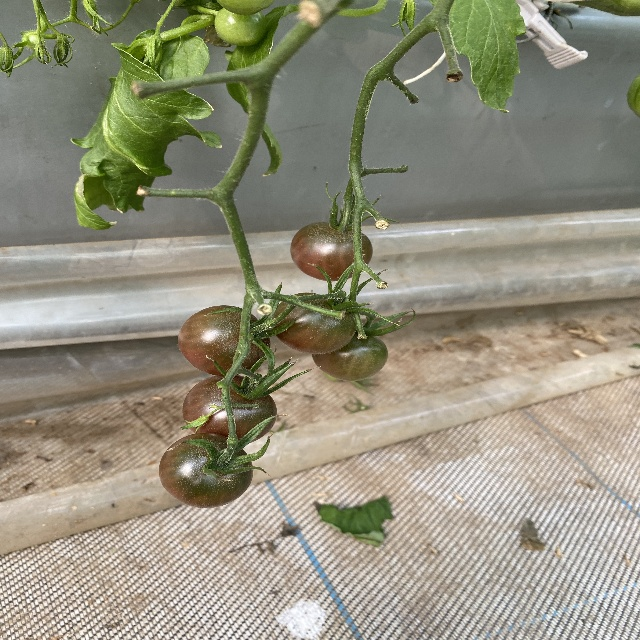l_green: (215, 8, 266, 47), (216, 0, 275, 16)
l_half_ripened: (159, 433, 253, 509), (182, 375, 277, 445), (178, 305, 270, 375), (273, 292, 359, 354), (290, 222, 373, 282), (311, 330, 388, 382)
